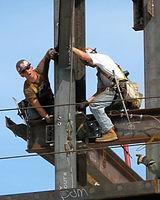helmet: (13, 58, 40, 76), (82, 45, 102, 61)
